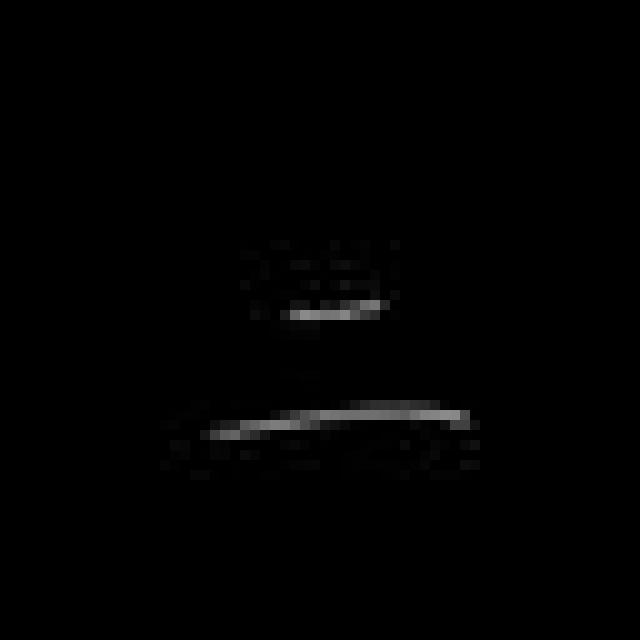2 -two-: (185, 280, 482, 451)
